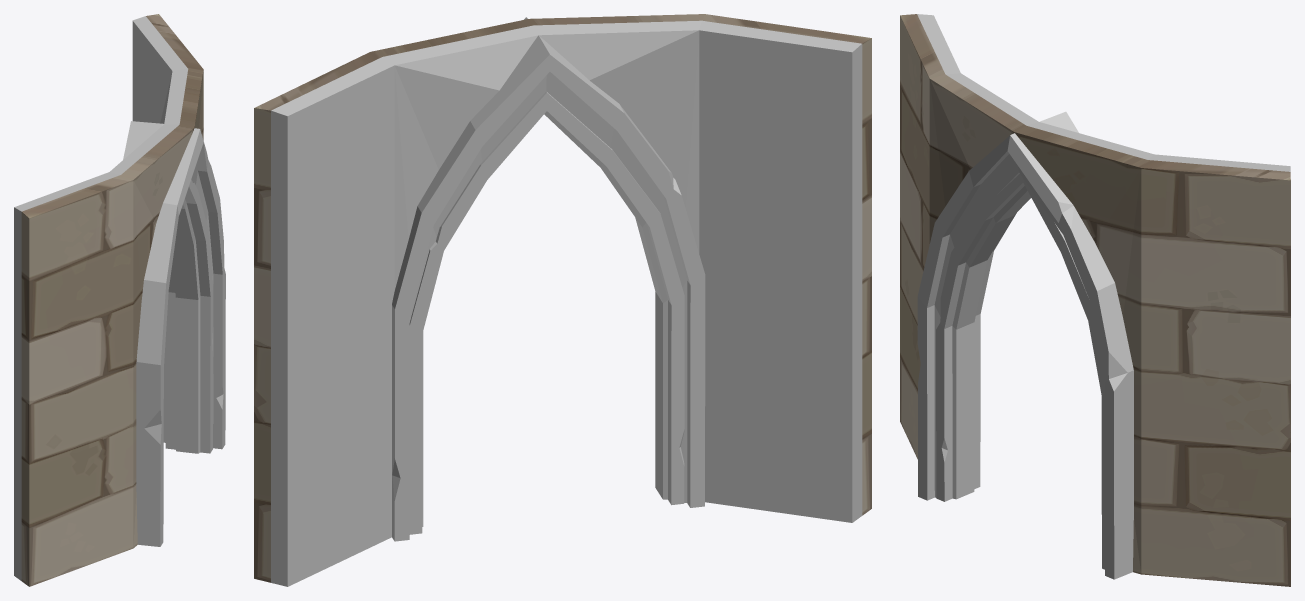
Rendered from SM_Bld_Wall_Doorway_Curved_01.fbx.
The picture shows the model from 3 angles, left to right: view 1: azimuth 30°, elevation 25°; view 2: azimuth 150°, elevation 25°; view 3: azimuth 270°, elevation 25°; orthographic projection. The views are drawn at different scales.
Parts seen in each view (by area): view 1: SM_Bld_Wall_Doorway_Curved_01; view 2: SM_Bld_Wall_Doorway_Curved_01; view 3: SM_Bld_Wall_Doorway_Curved_01.
Part boxes in pixels (<box>): SM_Bld_Wall_Doorway_Curved_01: <box>14,14,225,586</box>; SM_Bld_Wall_Doorway_Curved_01: <box>254,14,871,586</box>; SM_Bld_Wall_Doorway_Curved_01: <box>900,14,1290,586</box>.
Bounding box in the file's own units: 261 × 301 × 261.
